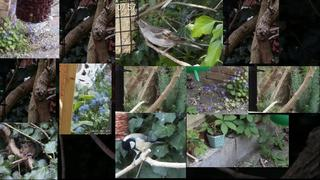great tit: (122, 133, 166, 167)
mouse: (19, 143, 38, 160)
sparrow: (135, 18, 203, 57)
